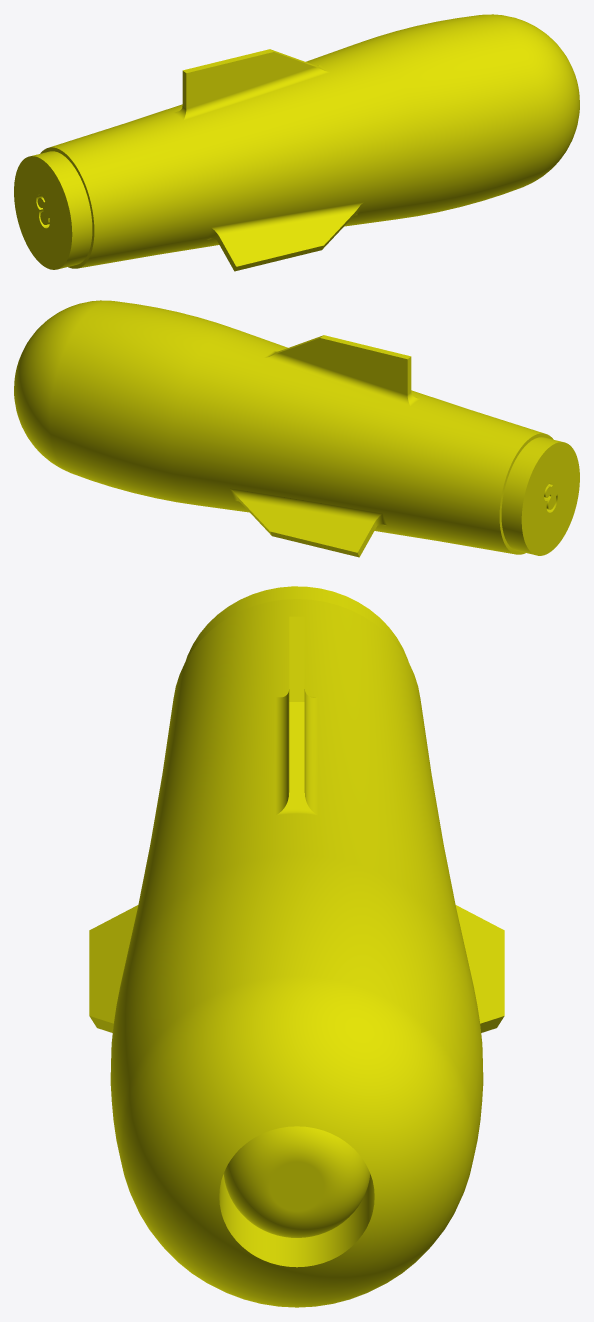
File: Dropper.fbx
The picture shows the model from 3 angles, top to bottom: view 1: azimuth 30°, elevation 25°; view 2: azimuth 150°, elevation 25°; view 3: azimuth 270°, elevation 25°; orthographic projection. The views are drawn at different scales.
Parts seen in each view (by area): view 1: Marker v4 mass-2 - Part, Marker v4 mass-2 - Part 2, spacer 3mm-1 - Part; view 2: Marker v4 mass-2 - Part, Marker v4 mass-2 - Part 2, spacer 3mm-1 - Part; view 3: Marker v4 mass-2 - Part, Marker v4 mass-2 - Part 2, Cylinder weight-1 - Part, spacer 3mm-1 - Part.
Part boxes in pixels (x1=…): Marker v4 mass-2 - Part: x1=50, y1=14, x2=543, y2=268; Marker v4 mass-2 - Part 2: x1=40, y1=14, x2=579, y2=271; spacer 3mm-1 - Part: x1=14, y1=151, x2=92, y2=269; Marker v4 mass-2 - Part: x1=50, y1=300, x2=543, y2=554; Marker v4 mass-2 - Part 2: x1=14, y1=300, x2=553, y2=557; spacer 3mm-1 - Part: x1=501, y1=437, x2=579, y2=555; Marker v4 mass-2 - Part: x1=110, y1=599, x2=483, y2=1167; Marker v4 mass-2 - Part 2: x1=89, y1=616, x2=504, y2=1307; Cylinder weight-1 - Part: x1=223, y1=1126, x2=370, y2=1237; spacer 3mm-1 - Part: x1=185, y1=586, x2=408, y2=661.
Bounding box in the file's own units: 7.69 × 2.71 × 2.67.
